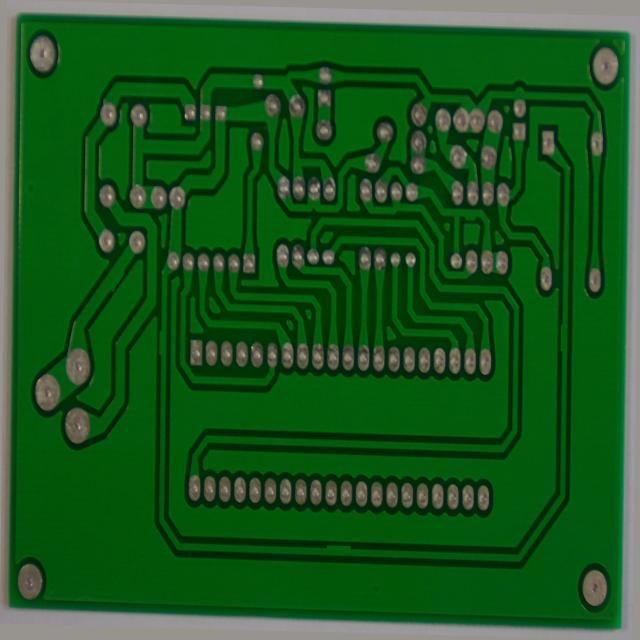spur: (558, 306, 574, 354), (102, 268, 125, 298), (324, 546, 356, 565), (154, 329, 167, 366), (462, 198, 480, 219)
